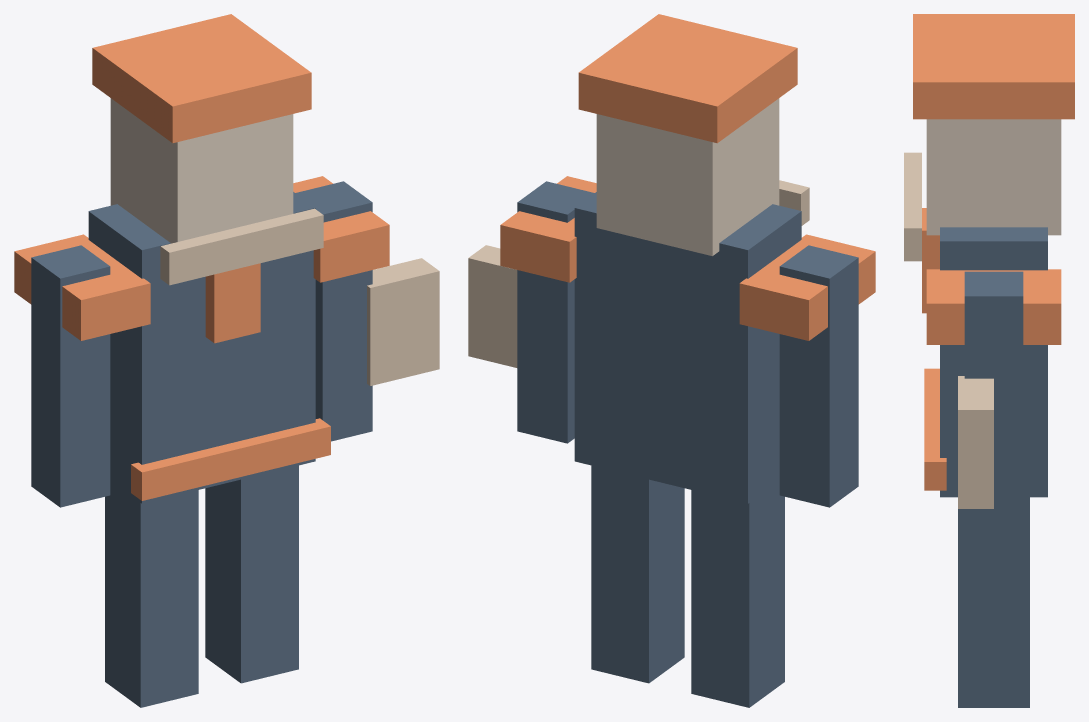
The model's file is 01_zerin_ironwake_guide_under_missile.glb.
The picture shows the model from 3 angles, left to right: view 1: azimuth 30°, elevation 25°; view 2: azimuth 150°, elevation 25°; view 3: azimuth 270°, elevation 25°; orthographic projection.
Visible parts, largest first — view 1: Zerin Ironwake, Guide under Missile; view 2: Zerin Ironwake, Guide under Missile; view 3: Zerin Ironwake, Guide under Missile.
Boxes of the visible parts, bbox=[...] form: Zerin Ironwake, Guide under Missile: bbox=[14, 14, 439, 707]; Zerin Ironwake, Guide under Missile: bbox=[468, 14, 875, 707]; Zerin Ironwake, Guide under Missile: bbox=[904, 14, 1074, 707].
Bounding box in the file's own units: 0.9168 × 1.43 × 0.3573.
